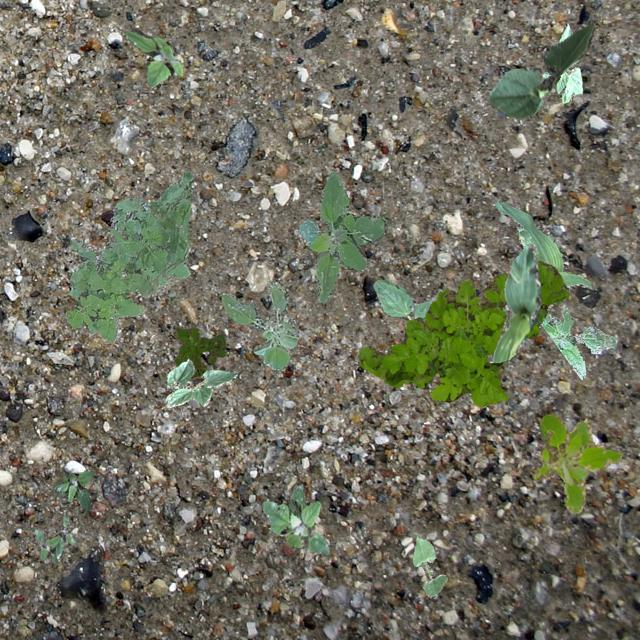crop: (494, 200, 590, 314), (486, 21, 594, 118), (486, 242, 540, 362), (164, 358, 237, 407), (542, 22, 582, 102), (371, 278, 431, 322), (412, 536, 446, 598)
weed: (357, 260, 568, 406), (65, 172, 192, 342), (298, 170, 386, 302), (532, 412, 622, 514), (220, 280, 298, 368), (540, 304, 616, 378), (260, 484, 328, 554), (125, 28, 182, 86), (172, 324, 224, 378), (33, 514, 76, 562), (49, 468, 92, 509)
